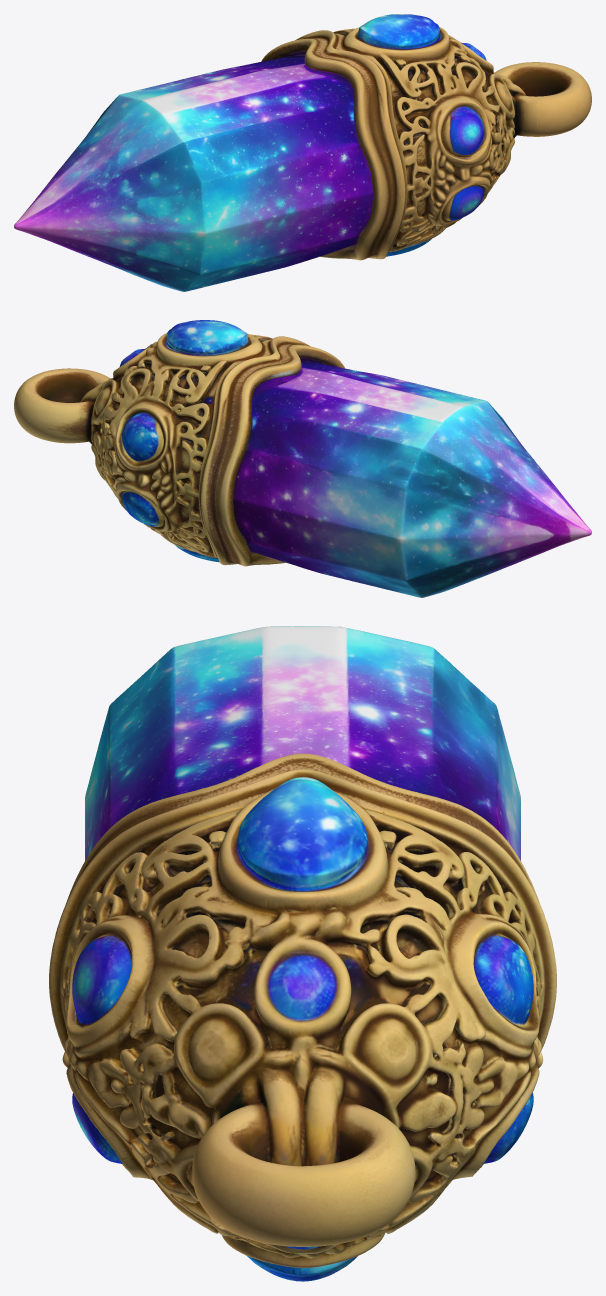
The model's file is AmuletCrystal.glb.
The picture shows the model from 3 angles, top to bottom: view 1: azimuth 30°, elevation 25°; view 2: azimuth 150°, elevation 25°; view 3: azimuth 270°, elevation 25°; orthographic projection. The views are drawn at different scales.
Bounding box in the file's own units: 1.9 × 0.7408 × 0.7331.
1 material, 1 textured.
